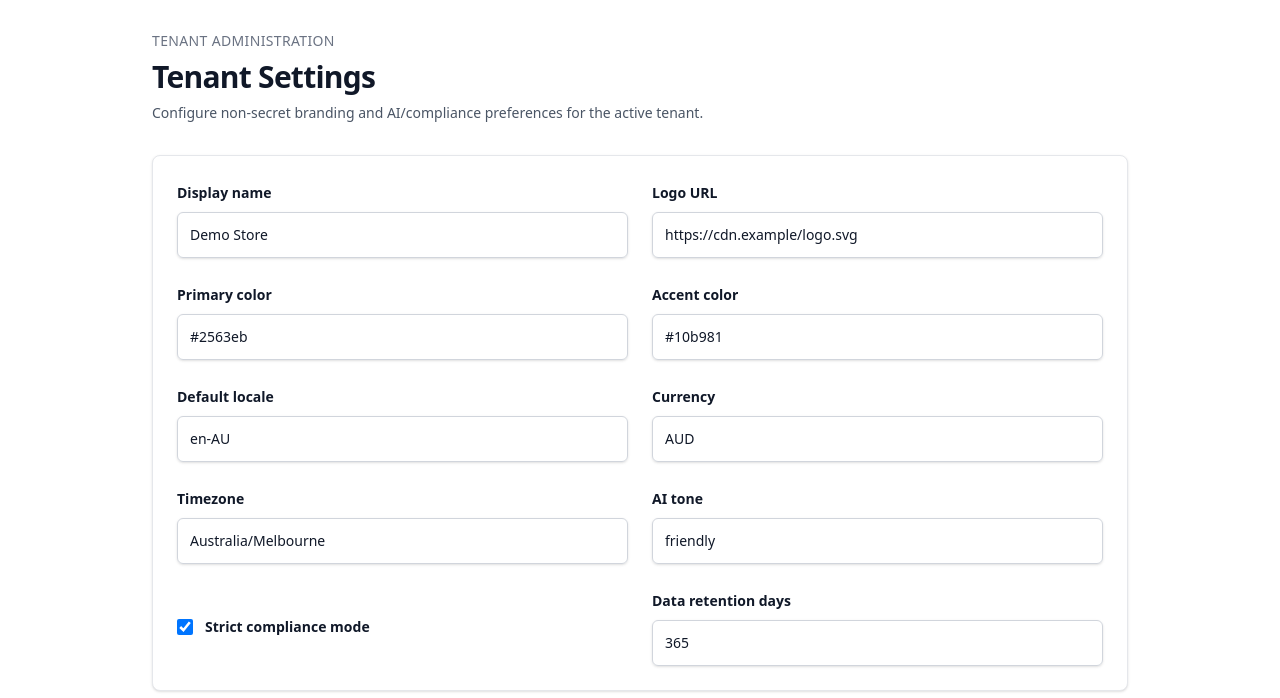
Test: TenantSettingsPanel › saves edited settings without exposing credentials
This screenshot has width=1280, height=698.
Replace the text in the field labelled "Display name" with "Demo Outlet" at (402, 235), box [177,212,628,258]
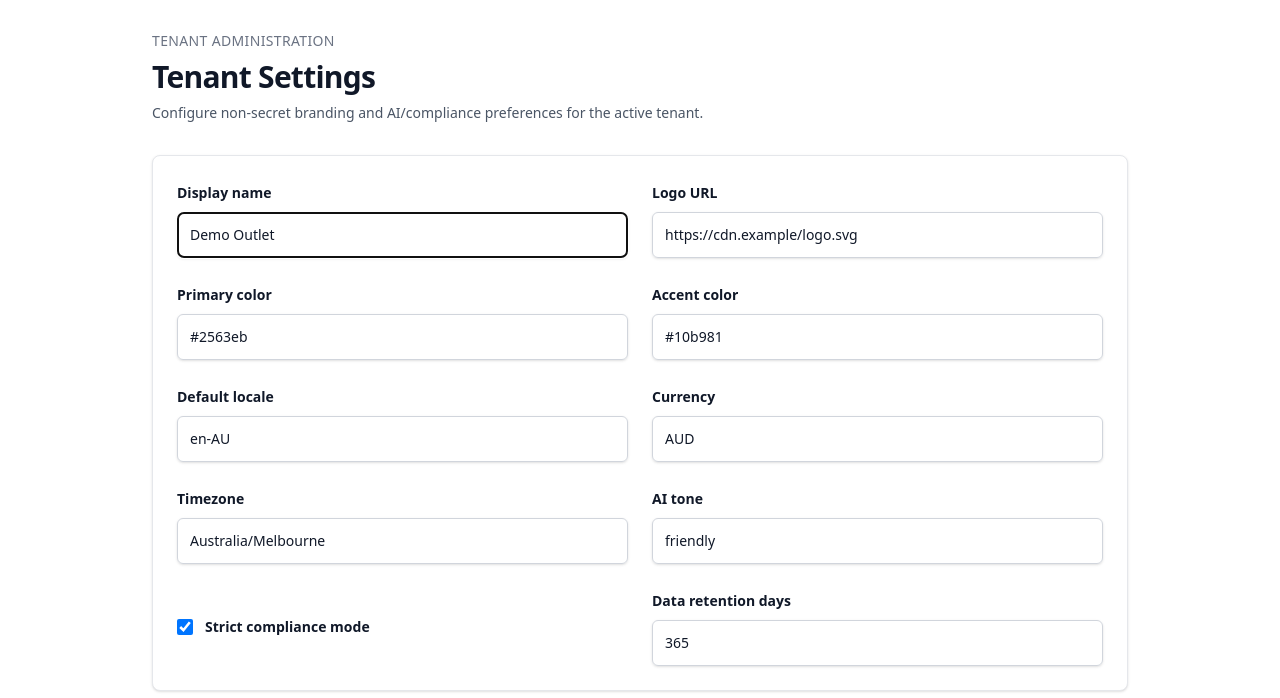
Click the checkbox labelled "Strict compliance mode" at (185, 627), box [177,619,193,635]
(page scrolled)
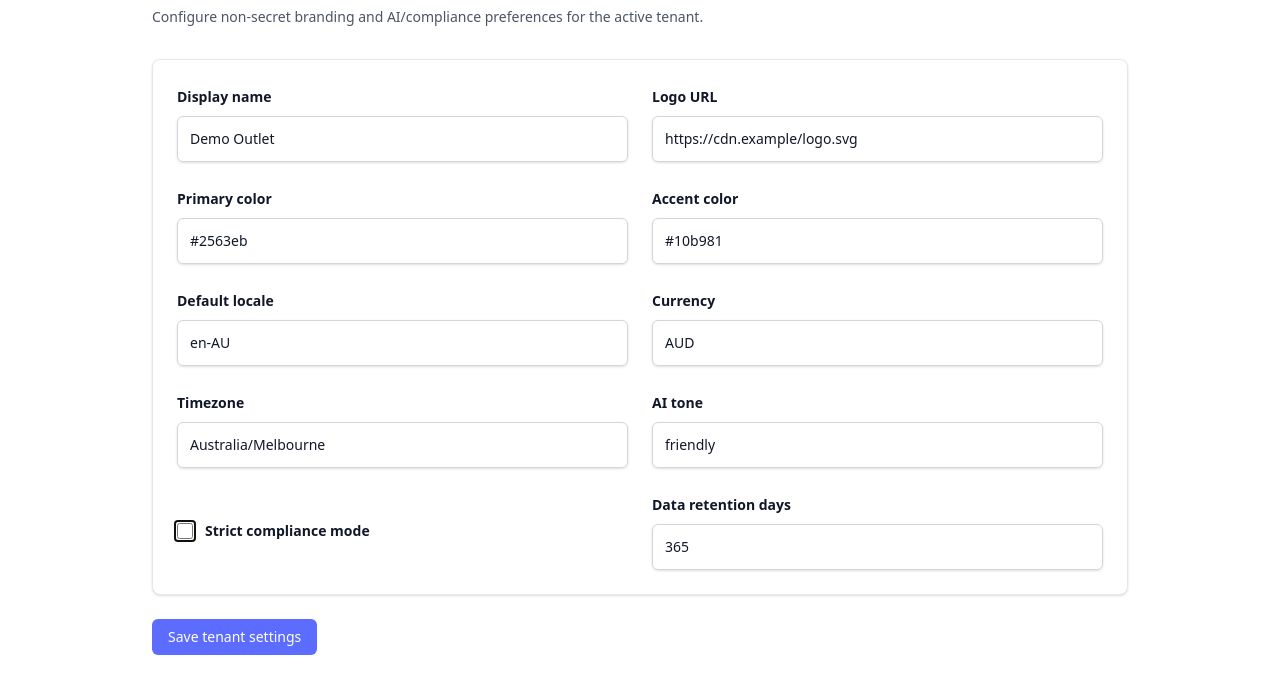
Click the button "Save tenant settings" at (235, 637), box [152,619,317,655]
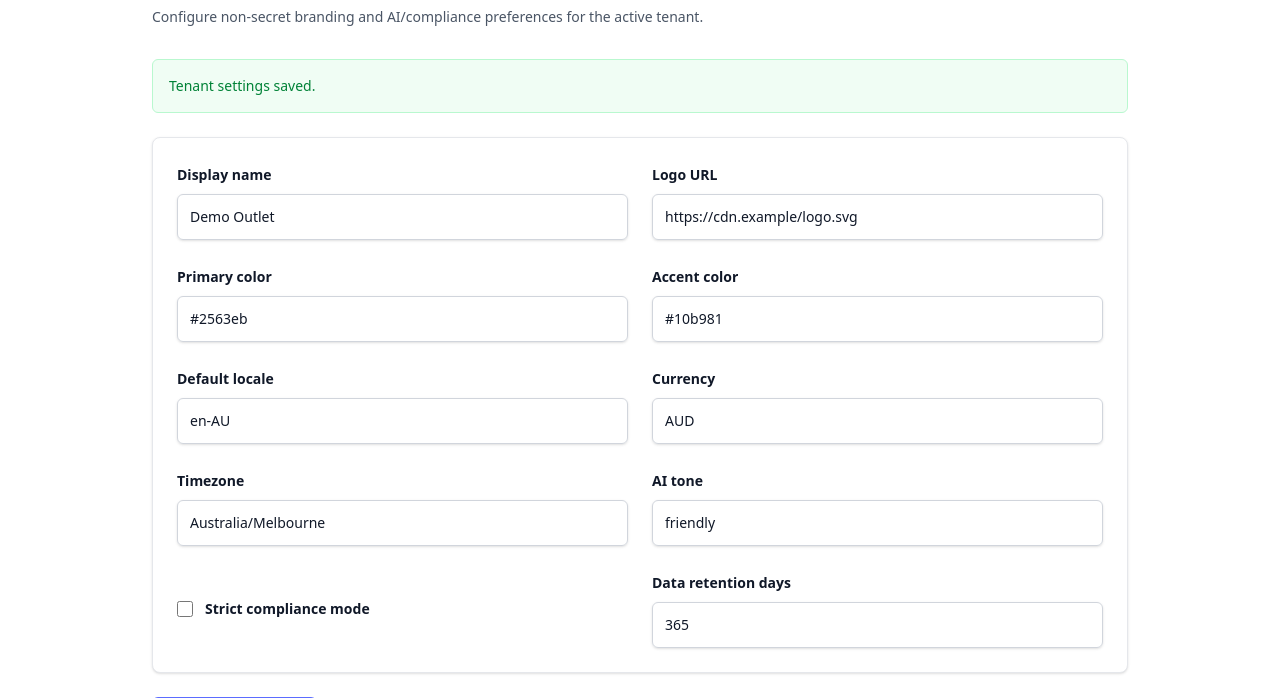
Check: the message shows "Tenant settings saved", box [169,76,315,95]
